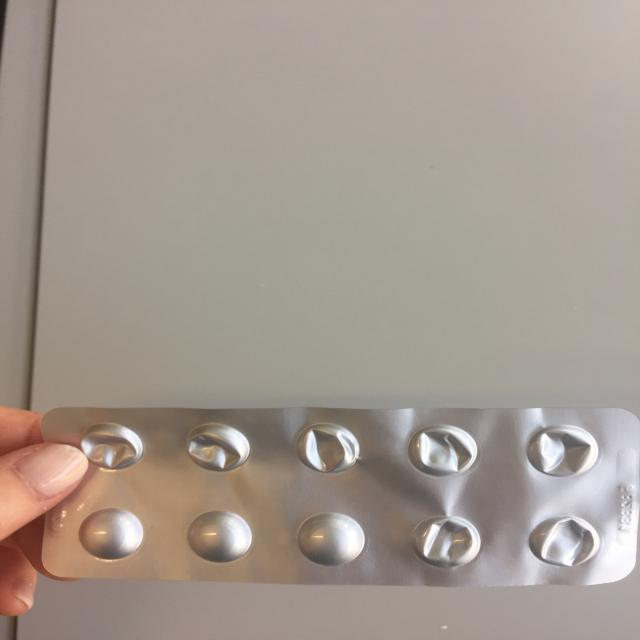Empty: (523, 420, 604, 480), (526, 511, 600, 572), (177, 420, 258, 475), (288, 419, 367, 475), (405, 423, 482, 479), (409, 516, 490, 569), (71, 421, 148, 473)
Pill: (292, 511, 372, 569), (186, 507, 259, 566), (78, 507, 148, 562)
